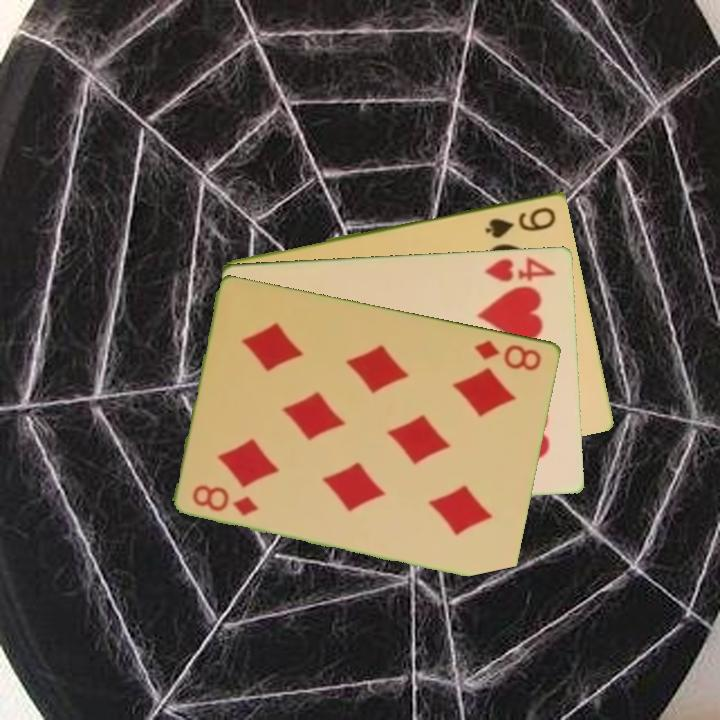4h: (482, 253, 559, 284)
8d: (471, 336, 545, 374), (189, 482, 262, 519)
9s: (481, 203, 559, 241)
